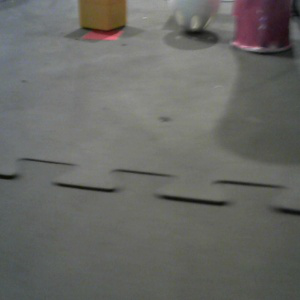right: (231, 1, 293, 54)
